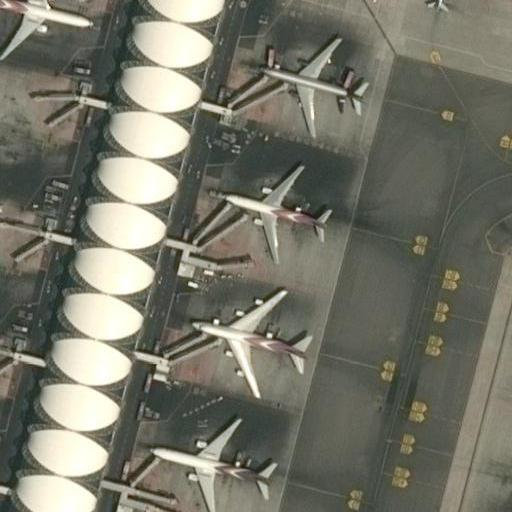Aircraft: (185, 281, 309, 395), (149, 412, 285, 512), (260, 29, 366, 134), (222, 163, 328, 265), (0, 0, 92, 61), (404, 0, 474, 10)
